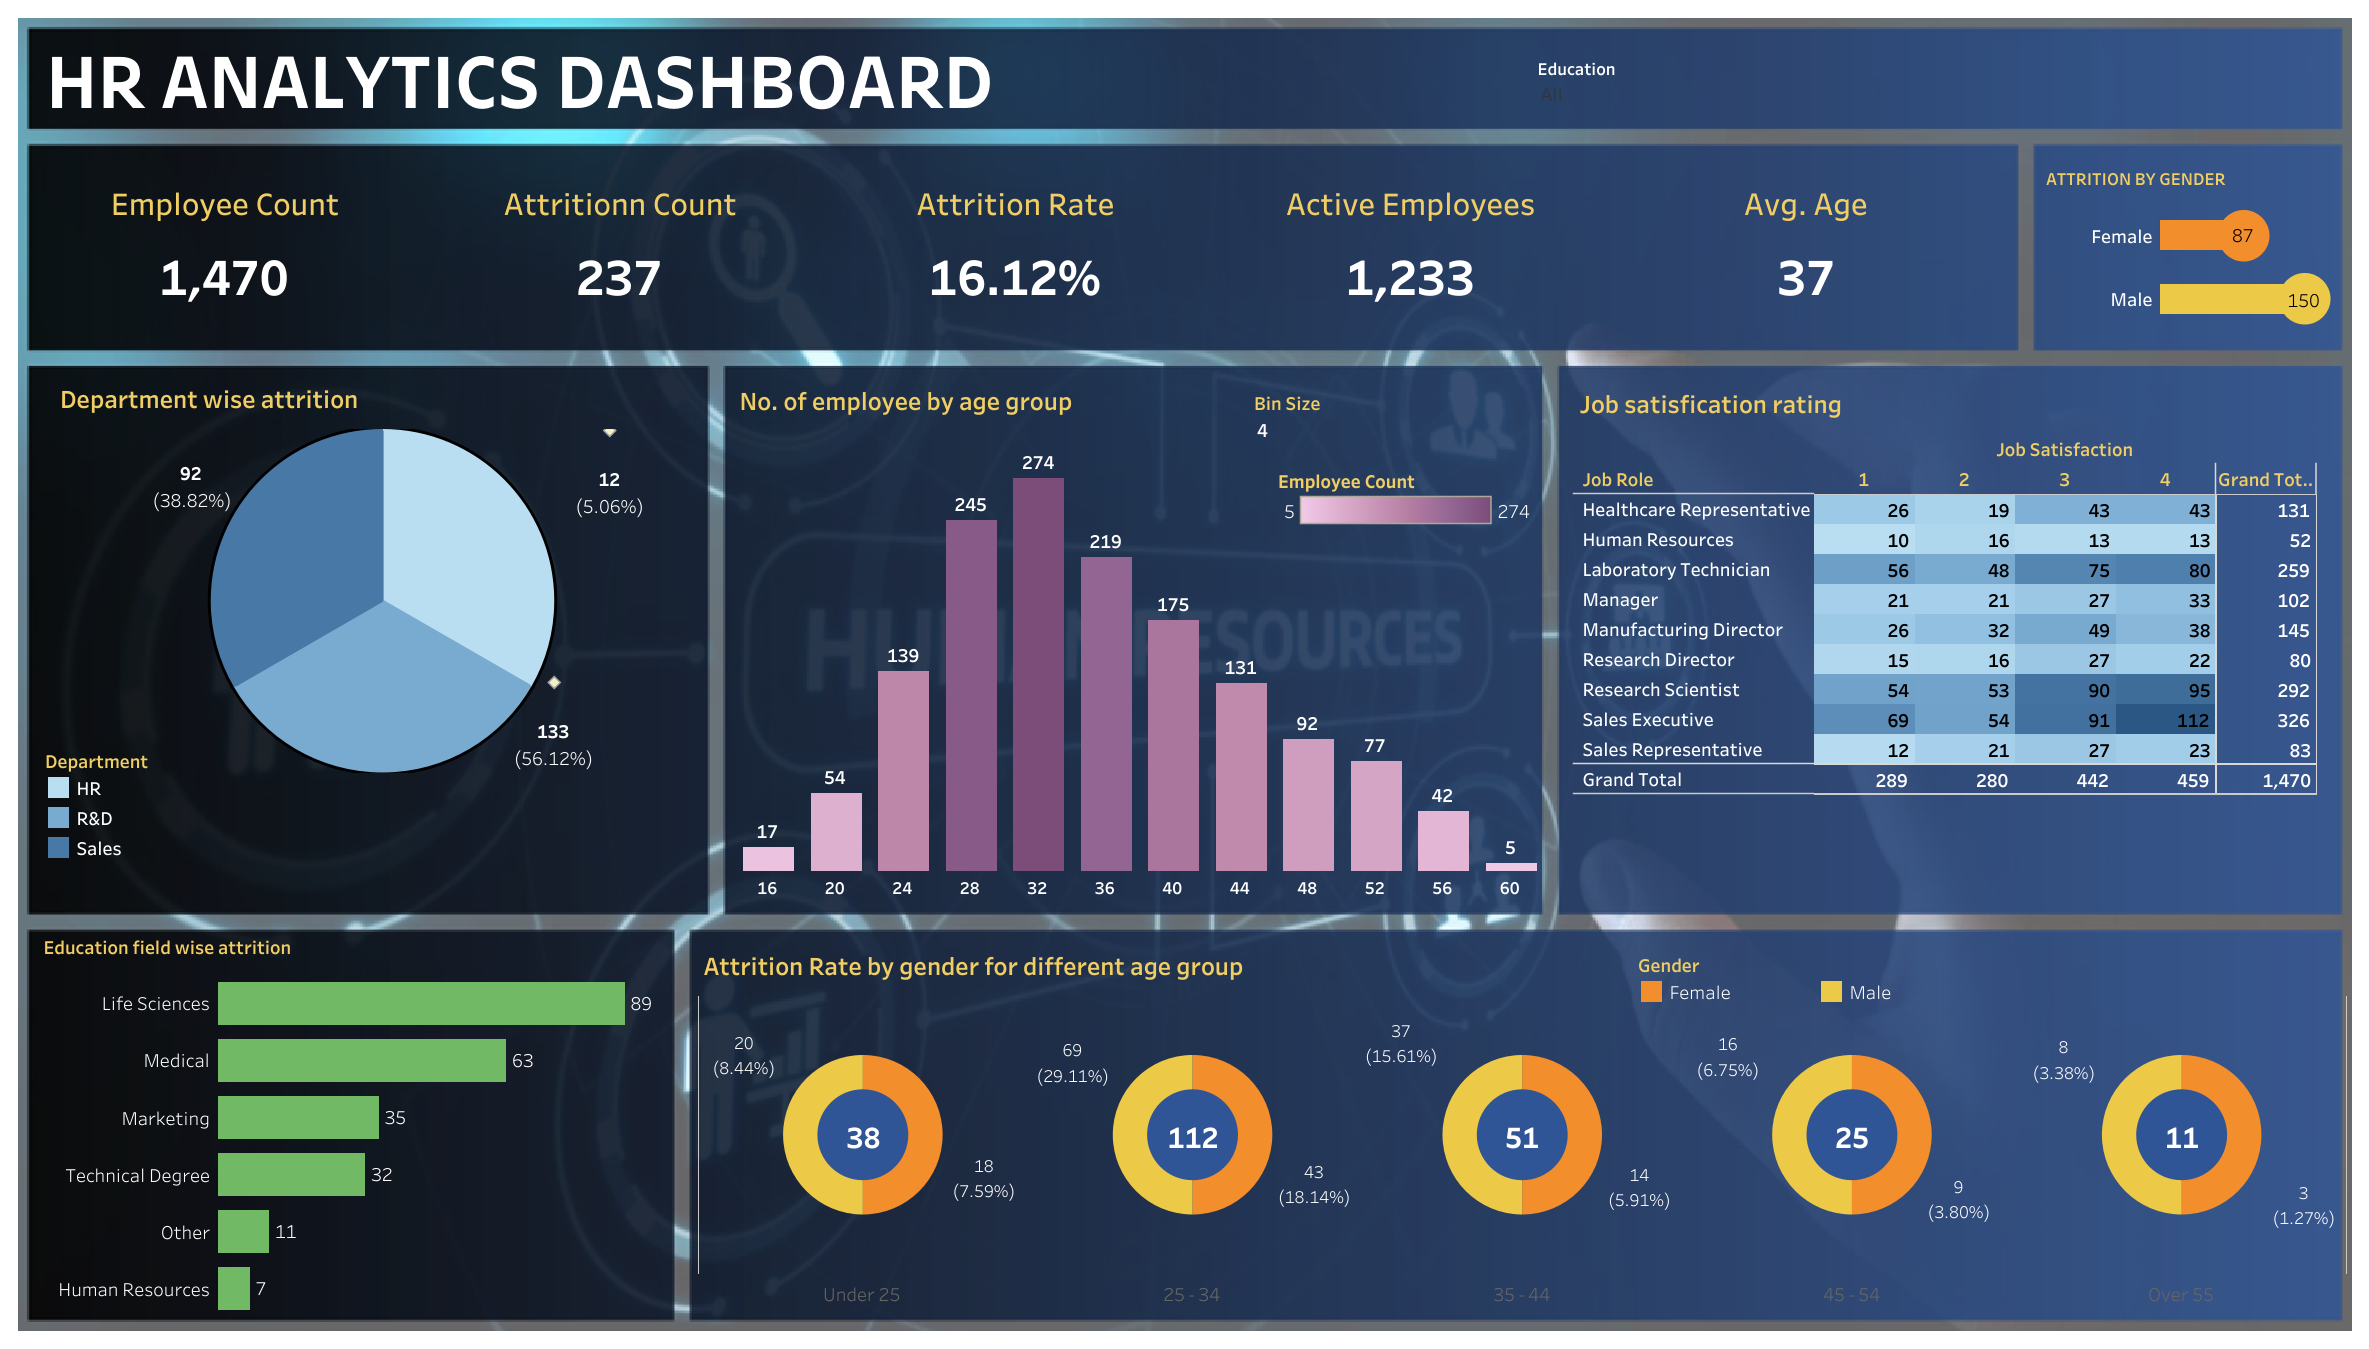

The page's visual inventory and layout, read from the dashboard file:
{"tool":"tableau","page":{"name":"HR Analytics Dashboard","canvas":[1000,1000],"units":"permille","ordinal":0},"visuals":[{"type":"image","param":"D:/Downloads/HR background.pptx.png","box":[5.1,8.9,989.9,982.2]},{"type":"text","box":[17.7,23.3,626.6,68.9]},{"type":"filter","title":"Department wise attrition","param":"[federated.00kea8k0yye8ud13eytv402pxlob].[none:Education:nk]","box":[648.7,41.1,172.2,55.6]},{"type":"worksheet","title":"ATTRITION BY GENDER","mark":"Automatic","rows":["Gender"],"cols":["Calculation_656962650642939904","Calculation_656962650642939904"],"box":[860.8,116.7,126,127.8]},{"type":"worksheet","title":"KPI","mark":"Automatic","box":[11.4,121.1,834.2,121.1]},{"type":"worksheet","title":"Department wise attrition","mark":"Pie","box":[22.8,275.6,277.2,296.7]},{"type":"worksheet","title":"No. of employee by age group","mark":"Automatic","rows":["Employee Count"],"cols":["Age (bin)"],"box":[309.5,276.7,341.8,390]},{"type":"worksheet","title":"Job satisfication rating","mark":"Square","rows":["Job Role"],"cols":["Job Satisfaction"],"box":[663.9,278.9,324.1,560]},{"type":"parameter","param":"[Parameters].[Parameter 1]","box":[529.1,286.7,120.9,45.6]},{"type":"legend","title":"No. of employee by age group","param":"[federated.00kea8k0yye8ud13eytv402pxlob].[sum:Employee Count:qk]","box":[539.2,341.1,109.5,70]},{"type":"legend","title":"Department wise attrition","param":"[federated.00kea8k0yye8ud13eytv402pxlob].[none:Department:nk]","box":[18.4,551.1,88,115.6]},{"type":"worksheet","title":"Education field wise attrition","mark":"Automatic","rows":["Education Field"],"cols":["Calculation_656962650642939904"],"box":[15.8,684.4,270.9,291.1]},{"type":"worksheet","title":"Attrition Rate by gender for different age group  ","mark":"Pie","rows":["Calculation_703124557074526209","Calculation_703124557074526209"],"cols":["CF_age band"],"box":[294.3,695.6,696.2,273.3]},{"type":"legend","title":"Attrition Rate by gender for different age group  ","param":"[federated.00kea8k0yye8ud13eytv402pxlob].[none:Gender:nk]","box":[690.5,702.2,237.3,55.6]}]}

Visuals, with their boxes on the dashboard's canvas, which has no fixed pixel size, in thousandths of its width and height (x1, y1, x2, y2). These are canvas units, not pixel positions in the 2369x1349 screenshot, which may show the page scaled, cropped or inside an application window:
image: pyautogui.locateOnScreen(5, 9, 995, 991)
text: pyautogui.locateOnScreen(18, 23, 644, 92)
"Department wise attrition" filter: pyautogui.locateOnScreen(649, 41, 821, 97)
"ATTRITION BY GENDER" worksheet: pyautogui.locateOnScreen(861, 117, 987, 244)
"KPI" worksheet: pyautogui.locateOnScreen(11, 121, 846, 242)
"Department wise attrition" worksheet (Pie marks): pyautogui.locateOnScreen(23, 276, 300, 572)
"No. of employee by age group" worksheet: pyautogui.locateOnScreen(310, 277, 651, 667)
"Job satisfication rating" worksheet (Square marks): pyautogui.locateOnScreen(664, 279, 988, 839)
parameter: pyautogui.locateOnScreen(529, 287, 650, 332)
"No. of employee by age group" legend: pyautogui.locateOnScreen(539, 341, 649, 411)
"Department wise attrition" legend: pyautogui.locateOnScreen(18, 551, 106, 667)
"Education field wise attrition" worksheet: pyautogui.locateOnScreen(16, 684, 287, 976)
"Attrition Rate by gender for different age group  " worksheet (Pie marks): pyautogui.locateOnScreen(294, 696, 990, 969)
"Attrition Rate by gender for different age group  " legend: pyautogui.locateOnScreen(690, 702, 928, 758)
